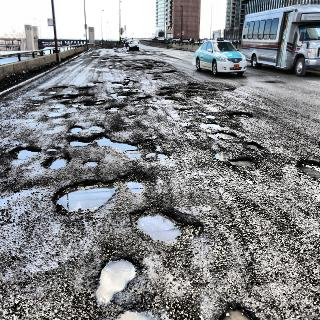pothole: (17, 72, 320, 320)
